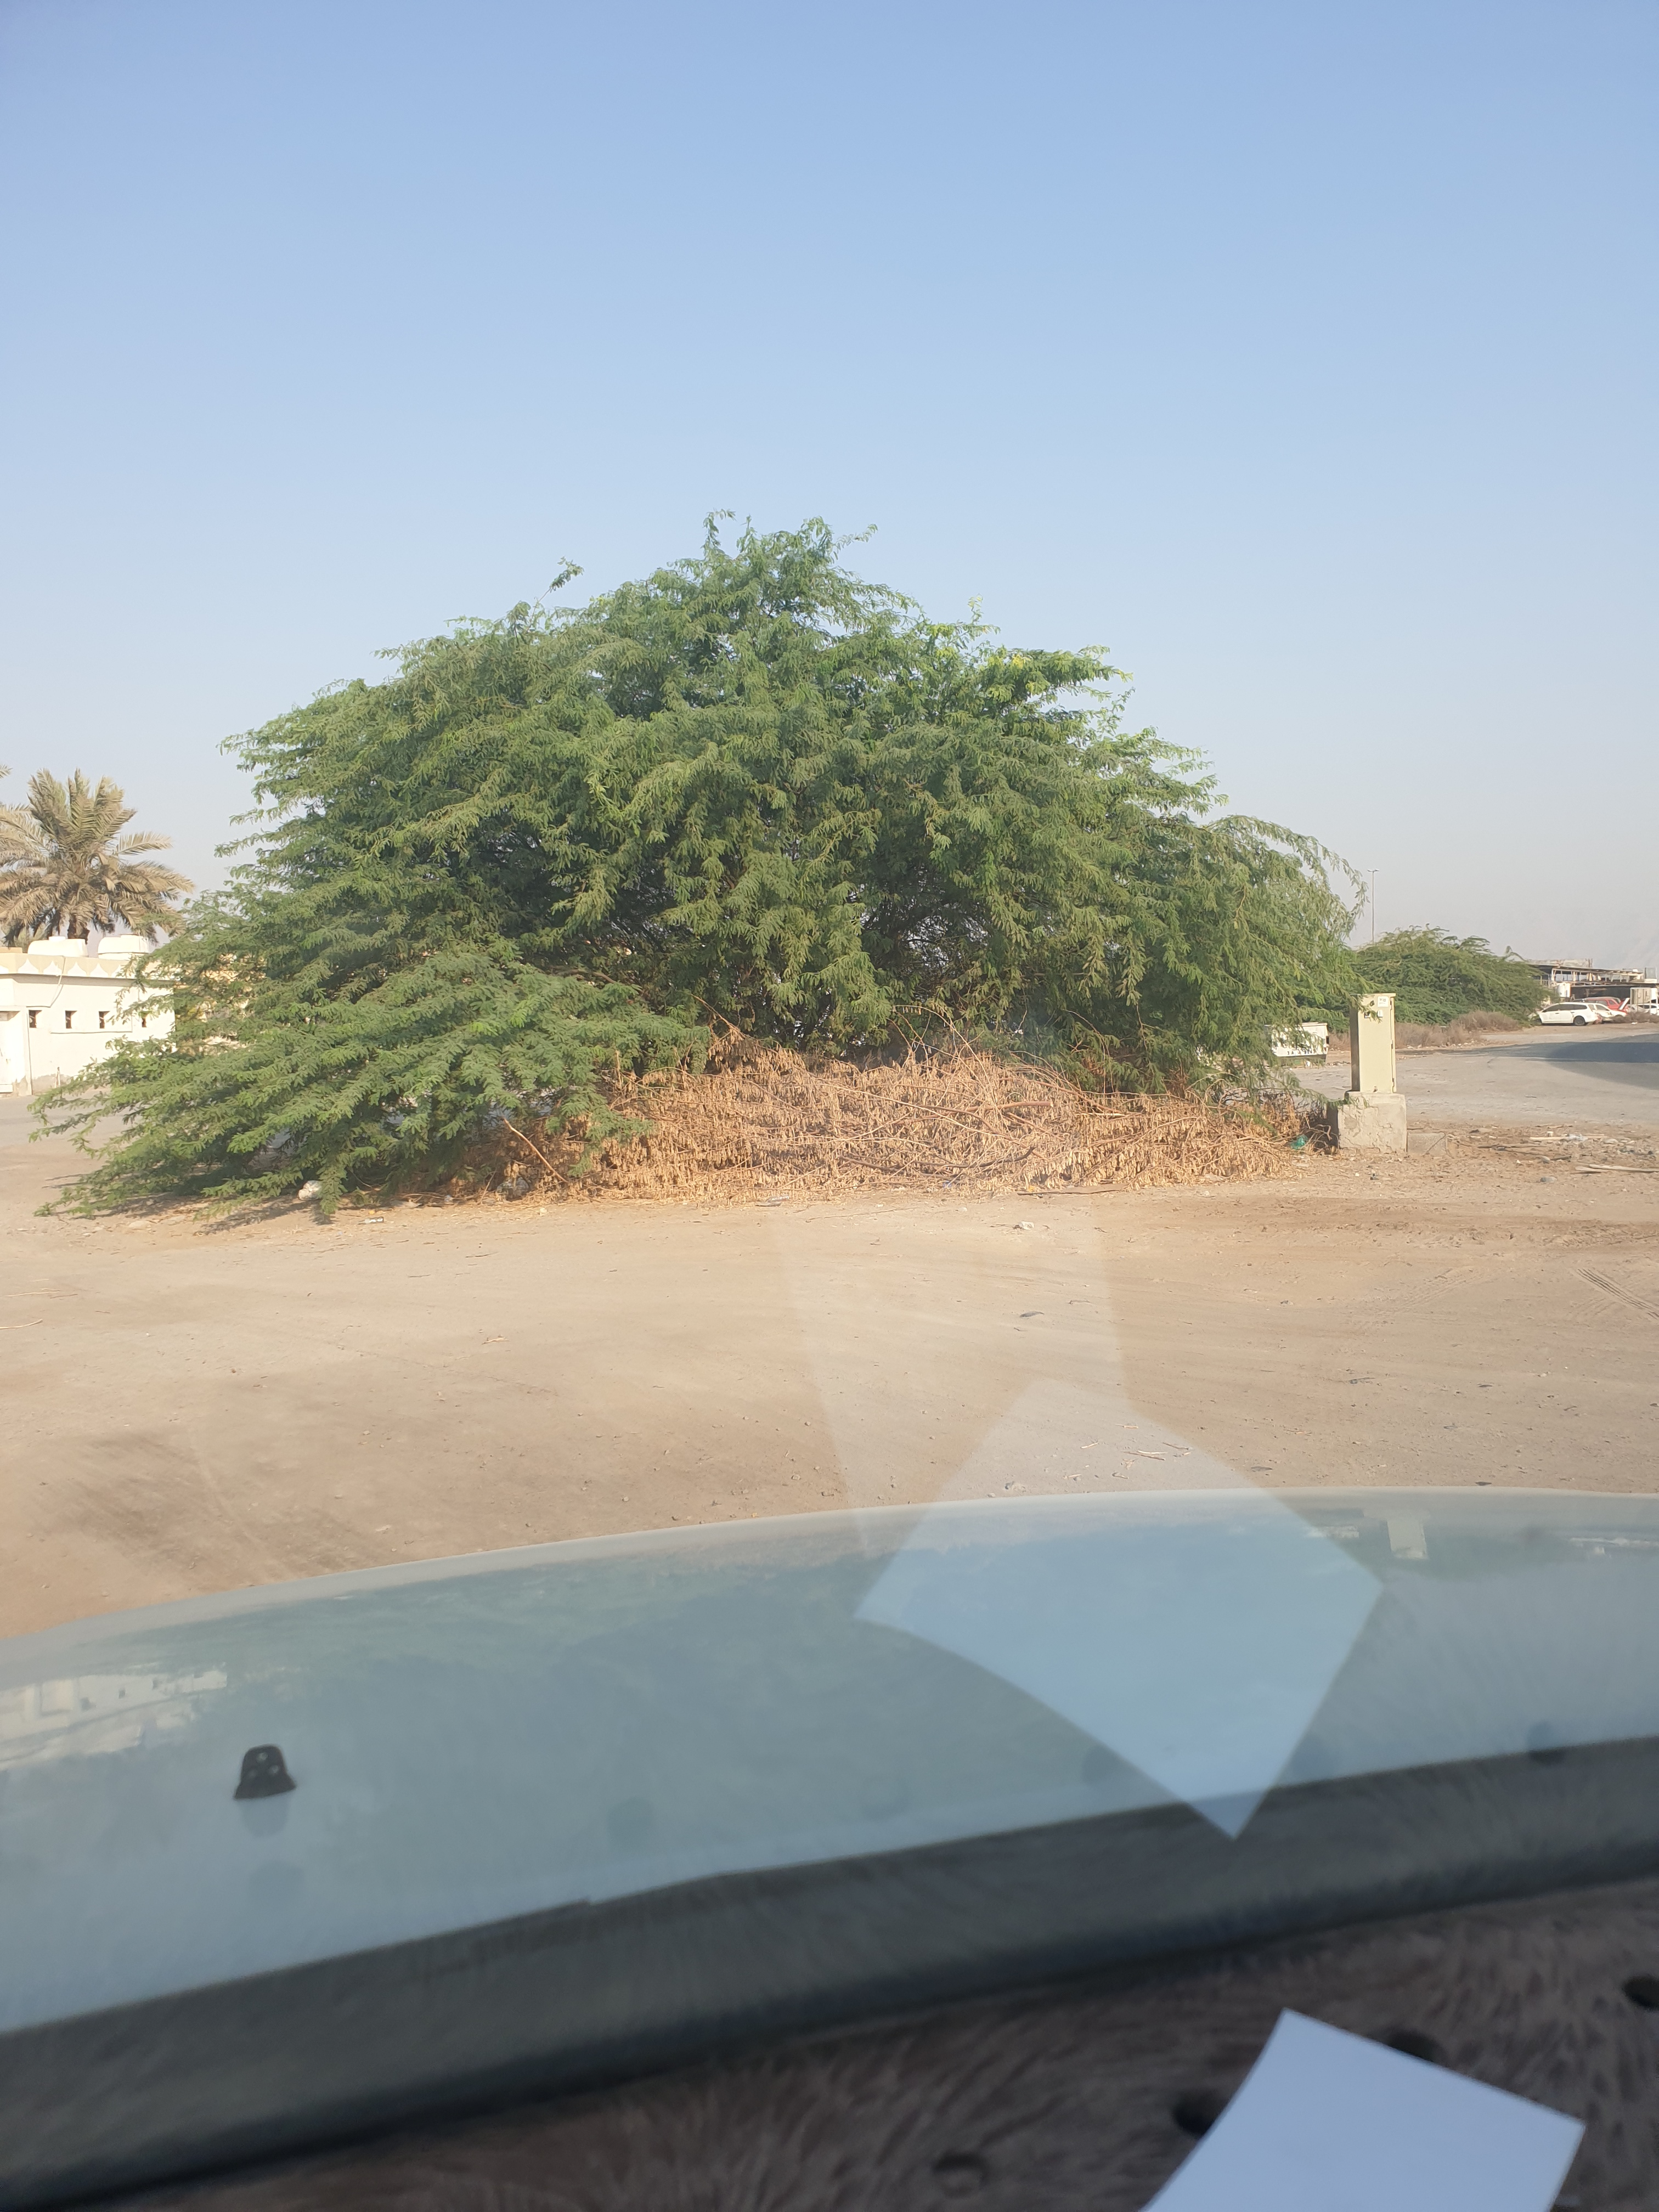fallen_trees: (598, 1132, 1164, 1240), (701, 1043, 999, 1226), (1028, 1106, 1218, 1252)
